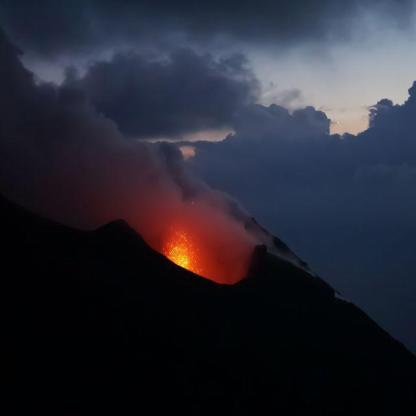fire: (158, 222, 192, 277)
smoke: (44, 105, 170, 225), (6, 5, 332, 50), (192, 202, 240, 267)
